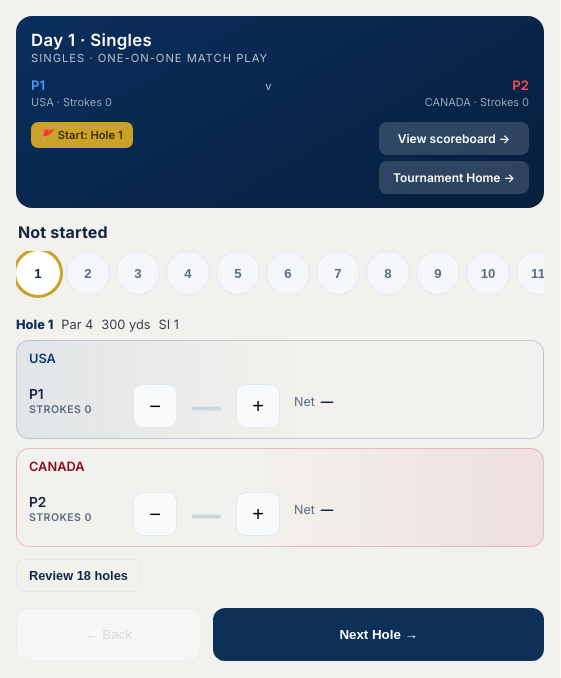
match scorecard — offline recompute › entering scores updates the header immediately without reloading
Expected: the text with test id "sc-status-500" reads "Not started", [18,222,108,242]
Step 1. Click the 1st button with test id "ball-1-plus" → [258, 406], box [236,384,280,428]
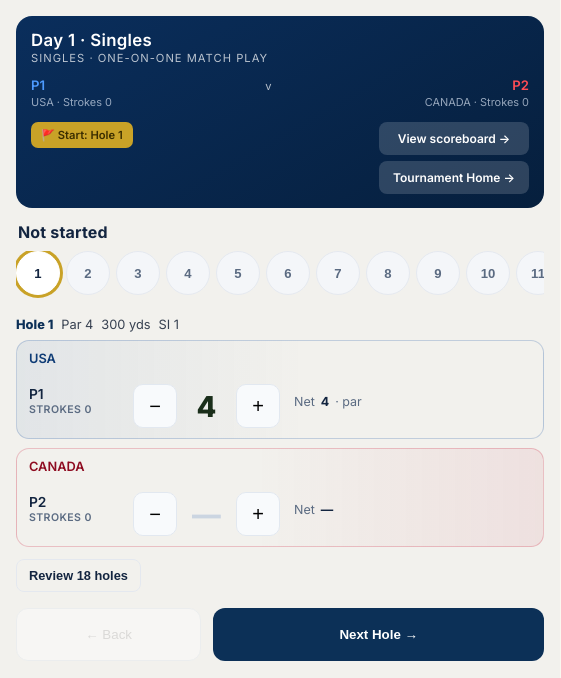
Step 2. Click the 2nd button with test id "ball-1-plus" → [258, 514], box [236,492,280,536]
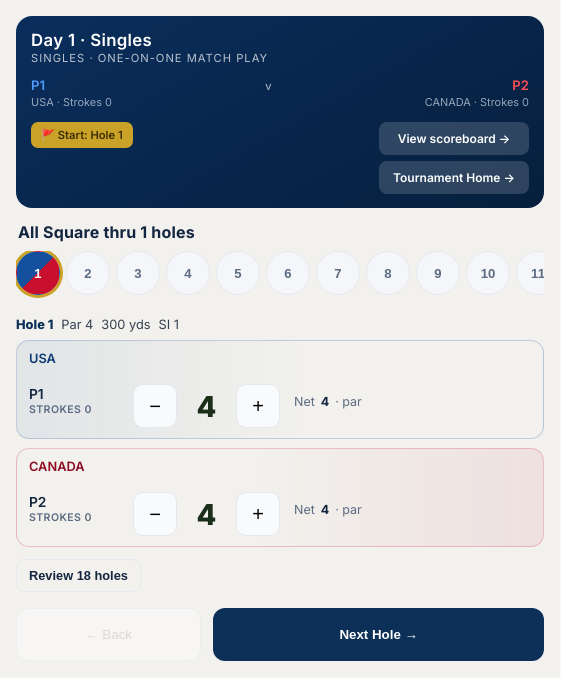
Step 3. Click the 2nd button with test id "ball-1-plus" → [258, 514], box [236,492,280,536]
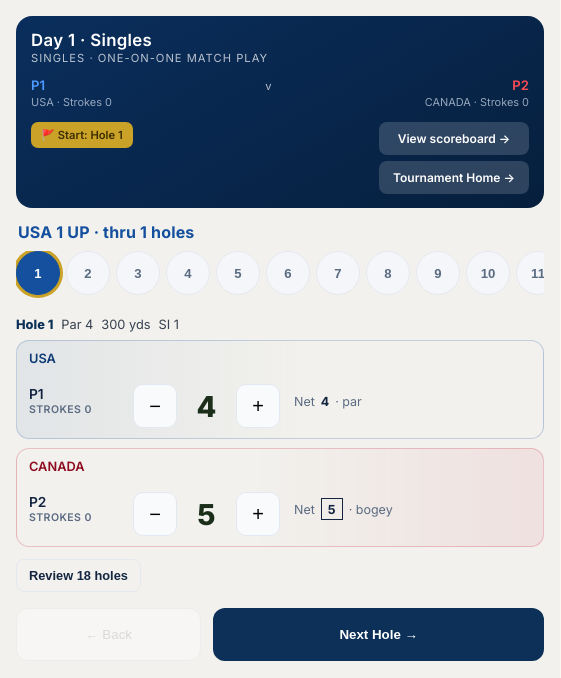
Now the text with test id "sc-status-500" shows "thru 1", box [18,222,194,242]
Now the text with test id "sc-status-500" shows "USA 1 UP", box [18,222,194,242]
